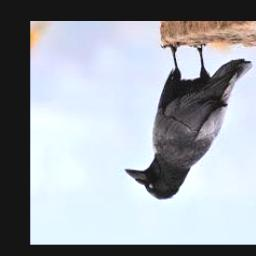Crow: (124, 43, 253, 201)
